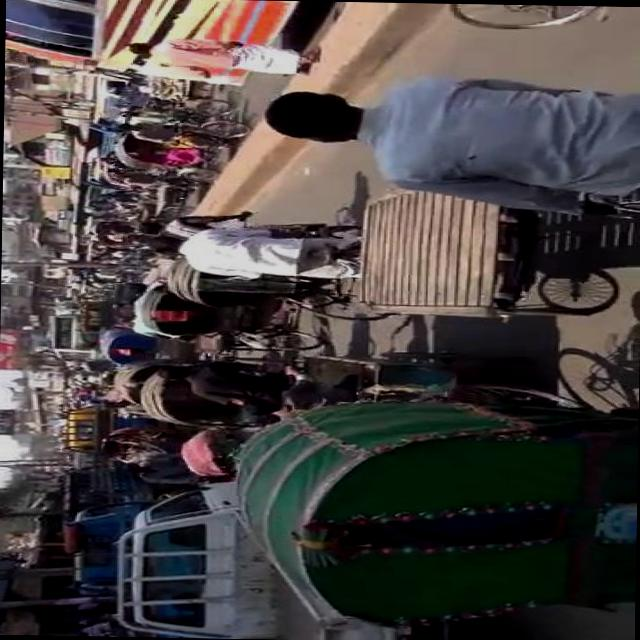bus: (5, 0, 304, 87), (46, 312, 102, 363)
motorcycle: (226, 376, 636, 634), (153, 218, 402, 323), (127, 278, 326, 354), (107, 116, 250, 184), (133, 364, 282, 429), (94, 330, 198, 368), (92, 222, 144, 250), (79, 266, 118, 290), (84, 198, 116, 212)
truck: (104, 478, 459, 640), (52, 402, 194, 498), (58, 488, 178, 592)
